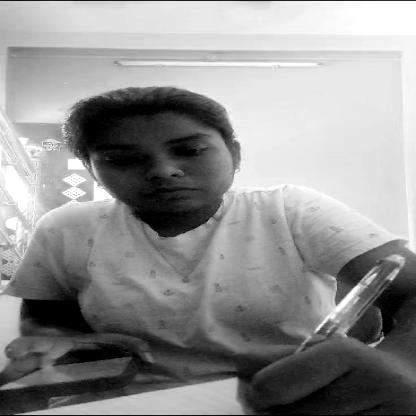Normal: (41, 95, 263, 222)
